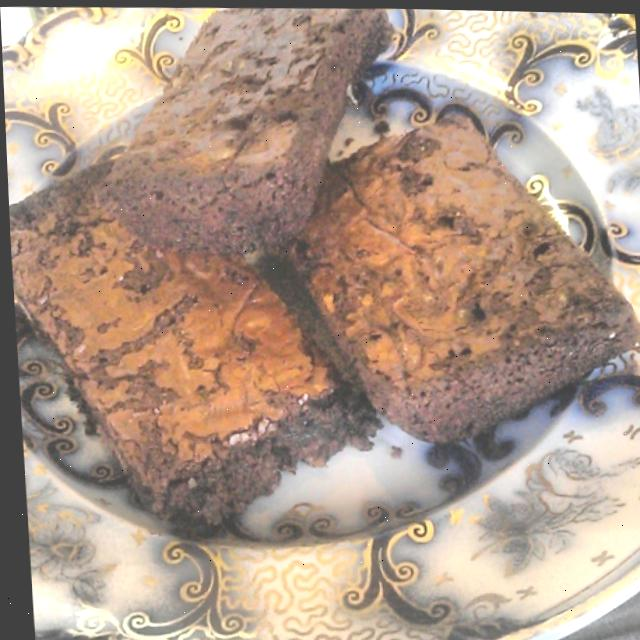蛋糕甜品: (0, 8, 620, 544)
